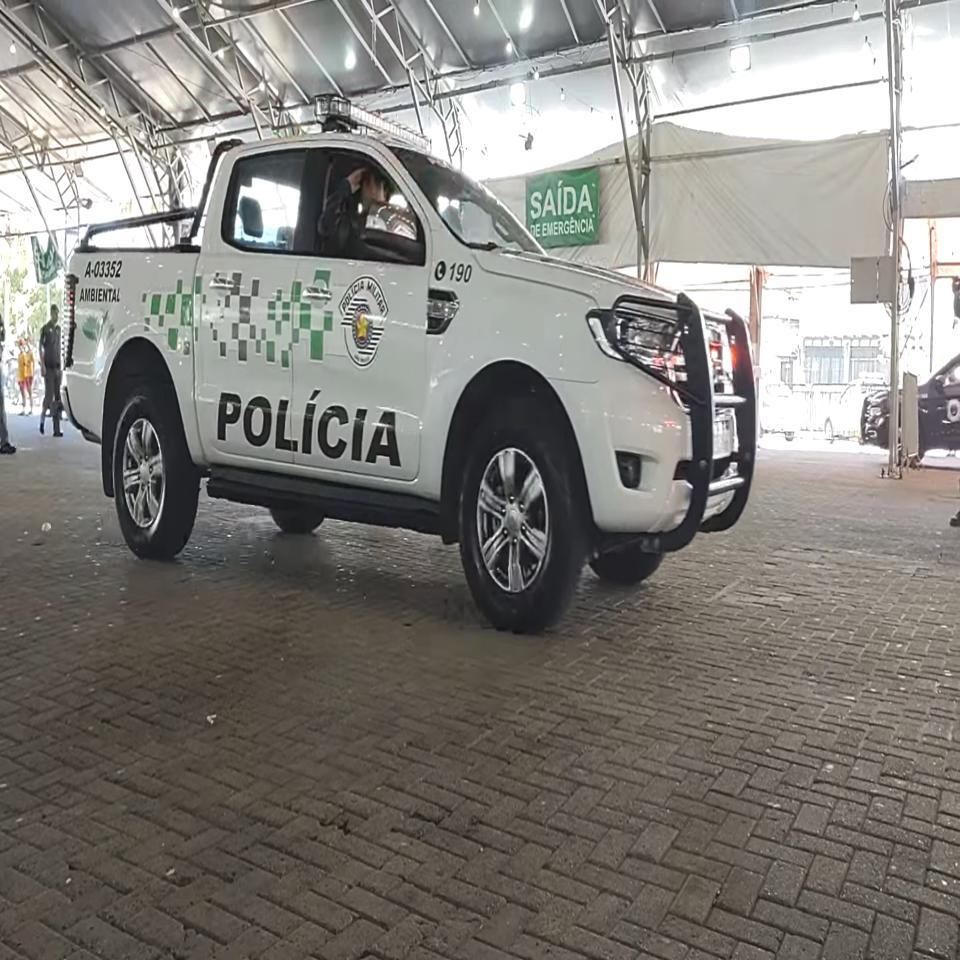viatura: (60, 78, 766, 629)
